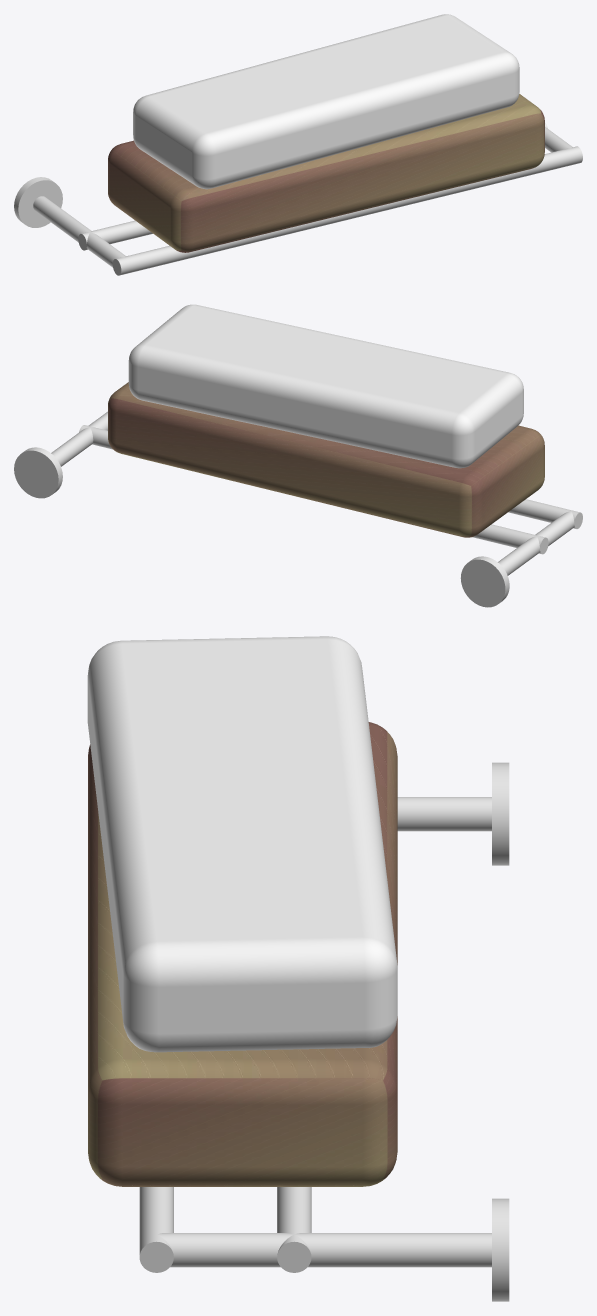
File: state-default.glb
3 renders of one model, top to bottom at view 1: azimuth 30°, elevation 25°; view 2: azimuth 150°, elevation 25°; view 3: azimuth 270°, elevation 25°, orthographic. The views are drawn at different scales.
Parts seen in each view (by area): view 1: assetPrim:99c77c594d079-19c7408ea1d:towel-folded-2, assetPrim:99c77c594d079-19c7408ea1d:towel-folded-1, assetPrim:99c77c594d079-19c7408ea1d:rack-bar-front, assetPrim:99c77c594d079-19c7408ea1d:rack-arm-l, assetPrim:99c77c594d079-19c7408ea1d:rack-backplate-l, assetPrim:99c77c594d079-19c7408ea1d:rack-bar-mid, assetPrim:99c77c594d079-19c7408ea1d:rack-arm-r; view 2: assetPrim:99c77c594d079-19c7408ea1d:towel-folded-2, assetPrim:99c77c594d079-19c7408ea1d:towel-folded-1, assetPrim:99c77c594d079-19c7408ea1d:rack-backplate-r, assetPrim:99c77c594d079-19c7408ea1d:rack-backplate-l, assetPrim:99c77c594d079-19c7408ea1d:rack-arm-l, assetPrim:99c77c594d079-19c7408ea1d:rack-bar-mid, assetPrim:99c77c594d079-19c7408ea1d:rack-arm-r, assetPrim:99c77c594d079-19c7408ea1d:rack-bar-front; view 3: assetPrim:99c77c594d079-19c7408ea1d:towel-folded-2, assetPrim:99c77c594d079-19c7408ea1d:towel-folded-1, assetPrim:99c77c594d079-19c7408ea1d:rack-arm-r, assetPrim:99c77c594d079-19c7408ea1d:rack-arm-l, assetPrim:99c77c594d079-19c7408ea1d:rack-bar-front, assetPrim:99c77c594d079-19c7408ea1d:rack-bar-mid, assetPrim:99c77c594d079-19c7408ea1d:rack-backplate-l, assetPrim:99c77c594d079-19c7408ea1d:rack-backplate-r.
Part boxes in pixels (x1=…): assetPrim:99c77c594d079-19c7408ea1d:towel-folded-2: x1=133, y1=14, x2=519, y2=189; assetPrim:99c77c594d079-19c7408ea1d:towel-folded-1: x1=108, y1=94, x2=544, y2=252; assetPrim:99c77c594d079-19c7408ea1d:rack-bar-front: x1=112, y1=146, x2=582, y2=275; assetPrim:99c77c594d079-19c7408ea1d:rack-arm-l: x1=33, y1=196, x2=125, y2=267; assetPrim:99c77c594d079-19c7408ea1d:rack-backplate-l: x1=14, y1=177, x2=62, y2=227; assetPrim:99c77c594d079-19c7408ea1d:rack-bar-mid: x1=78, y1=123, x2=547, y2=250; assetPrim:99c77c594d079-19c7408ea1d:rack-arm-r: x1=545, y1=127, x2=572, y2=152; assetPrim:99c77c594d079-19c7408ea1d:towel-folded-2: x1=128, y1=304, x2=523, y2=468; assetPrim:99c77c594d079-19c7408ea1d:towel-folded-1: x1=108, y1=382, x2=544, y2=537; assetPrim:99c77c594d079-19c7408ea1d:rack-backplate-r: x1=14, y1=447, x2=62, y2=498; assetPrim:99c77c594d079-19c7408ea1d:rack-backplate-l: x1=460, y1=556, x2=509, y2=607; assetPrim:99c77c594d079-19c7408ea1d:rack-arm-l: x1=498, y1=511, x2=574, y2=575; assetPrim:99c77c594d079-19c7408ea1d:rack-bar-mid: x1=79, y1=425, x2=548, y2=554; assetPrim:99c77c594d079-19c7408ea1d:rack-arm-r: x1=51, y1=411, x2=107, y2=466; assetPrim:99c77c594d079-19c7408ea1d:rack-bar-front: x1=508, y1=499, x2=582, y2=528; assetPrim:99c77c594d079-19c7408ea1d:towel-folded-2: x1=87, y1=636, x2=397, y2=1052; assetPrim:99c77c594d079-19c7408ea1d:towel-folded-1: x1=88, y1=722, x2=397, y2=1186; assetPrim:99c77c594d079-19c7408ea1d:rack-arm-r: x1=157, y1=1233, x2=491, y2=1267; assetPrim:99c77c594d079-19c7408ea1d:rack-arm-l: x1=397, y1=797, x2=491, y2=831; assetPrim:99c77c594d079-19c7408ea1d:rack-bar-front: x1=139, y1=1187, x2=173, y2=1272; assetPrim:99c77c594d079-19c7408ea1d:rack-bar-mid: x1=277, y1=1187, x2=311, y2=1272; assetPrim:99c77c594d079-19c7408ea1d:rack-backplate-l: x1=492, y1=762, x2=509, y2=865; assetPrim:99c77c594d079-19c7408ea1d:rack-backplate-r: x1=492, y1=1198, x2=509, y2=1301.
Bounding box in the file's own units: 0.66 × 0.185 × 0.2451.
Materials: 8 (1 with a texture image).
